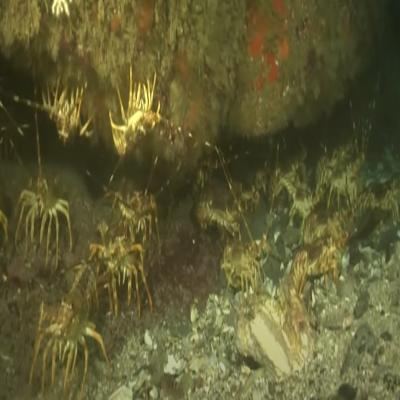lobster: (52, 270, 98, 370), (286, 237, 342, 303), (24, 174, 68, 248), (97, 225, 131, 303), (113, 103, 160, 152), (116, 178, 151, 236), (227, 242, 263, 293), (52, 87, 82, 142)
